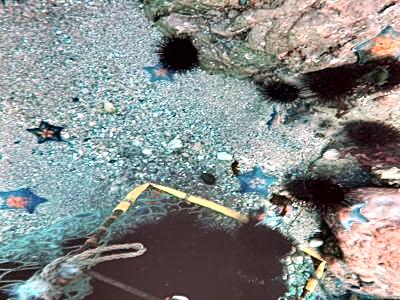urchin: (108, 210, 233, 289), (340, 115, 395, 166), (279, 172, 352, 210), (239, 221, 295, 262), (308, 65, 354, 106), (226, 267, 291, 296), (155, 32, 198, 70), (255, 76, 302, 107)
